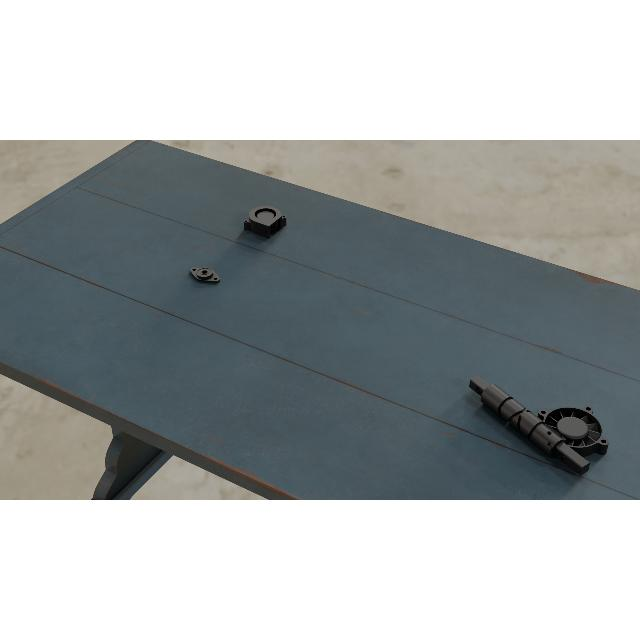Pieza1: (464, 369, 596, 483)
Pieza2: (184, 262, 226, 286)
Pieza3: (241, 202, 287, 240)
Pieza4: (534, 404, 612, 460)
